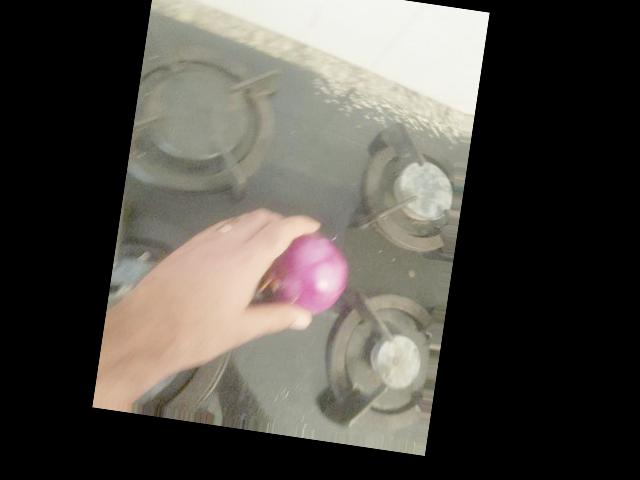onion: (257, 225, 352, 321)
